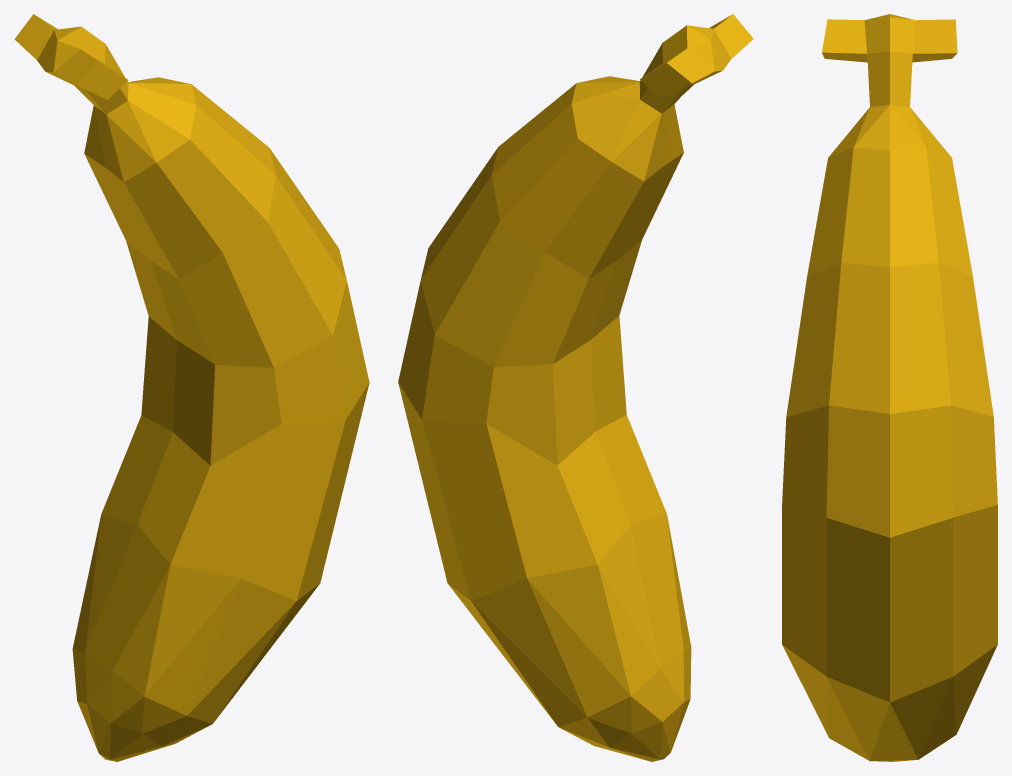
File: BananaFull.fbx
3 renders of one model, left to right at view 1: azimuth 30°, elevation 25°; view 2: azimuth 150°, elevation 25°; view 3: azimuth 270°, elevation 25°, orthographic. The views are drawn at different scales.
Visible parts, largest first — view 1: BananaFull; view 2: BananaFull; view 3: BananaFull.
Boxes of the visible parts, x1,y1,x2,y2 form: BananaFull: [14, 14, 369, 761]; BananaFull: [398, 14, 753, 761]; BananaFull: [782, 14, 997, 761].
Bounding box in the file's own units: 276 × 622 × 170.
